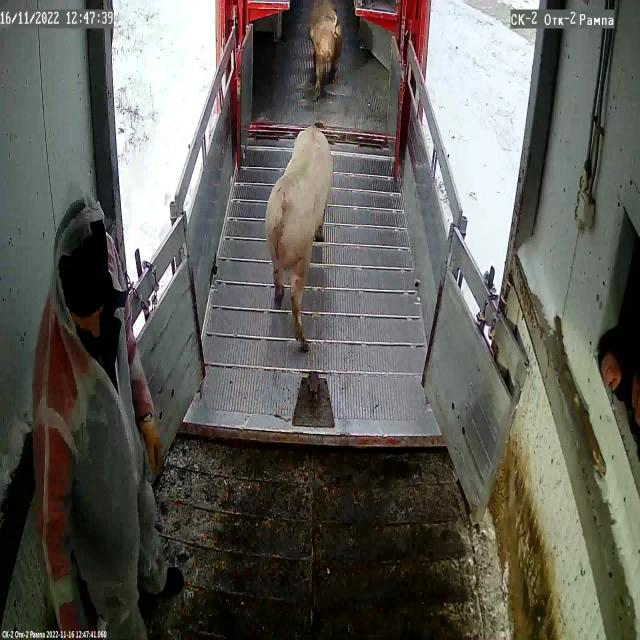pig: (265, 127, 332, 341), (308, 0, 342, 99)
